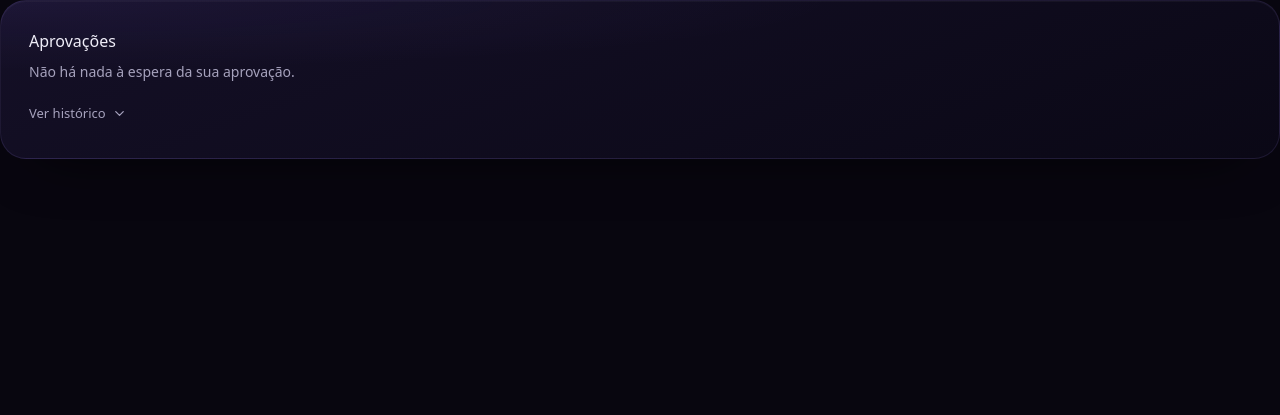
it: Depois de aprovar a arte › em Aprovações, a prova fica no histórico como aprovada, sem cartão
Click the heading "Ver histórico": coordinates (78, 113) [29,104,127,122]
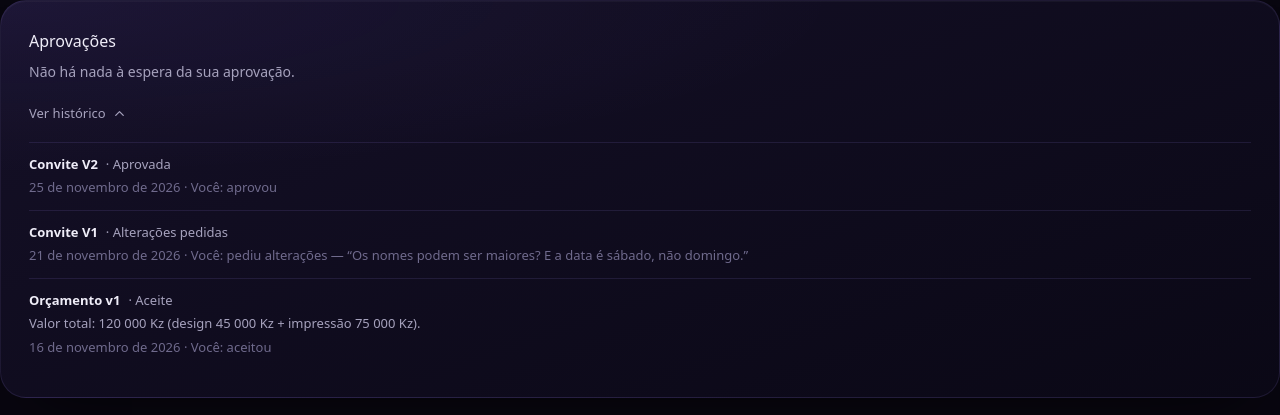
Now the text "· Aprovada" is shown, box [106,154,171,174]
